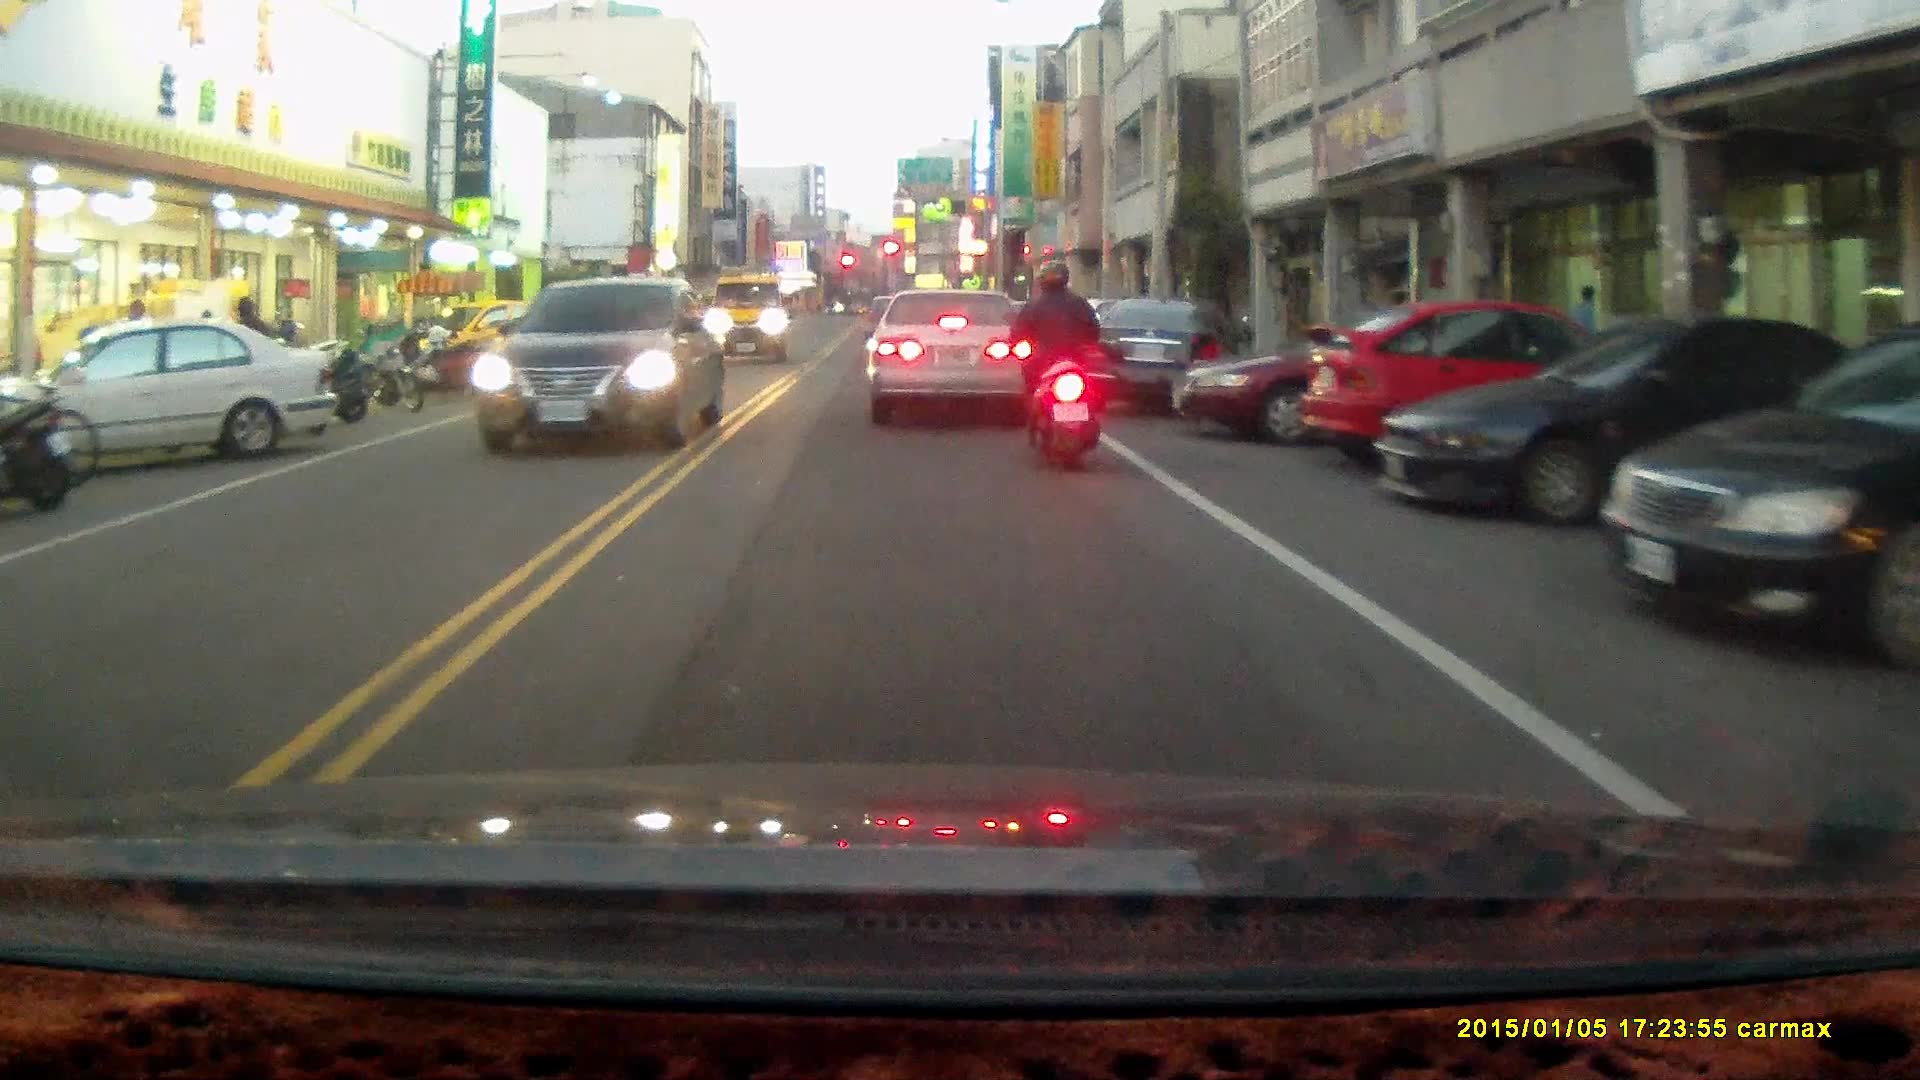rider: (1003, 256, 1110, 472)
vehicle: (1593, 327, 1920, 659), (1377, 315, 1840, 530), (1296, 297, 1664, 470), (1166, 317, 1562, 451), (1, 318, 333, 470), (471, 271, 724, 452), (865, 286, 1039, 419), (1077, 295, 1228, 417), (705, 273, 790, 364)
